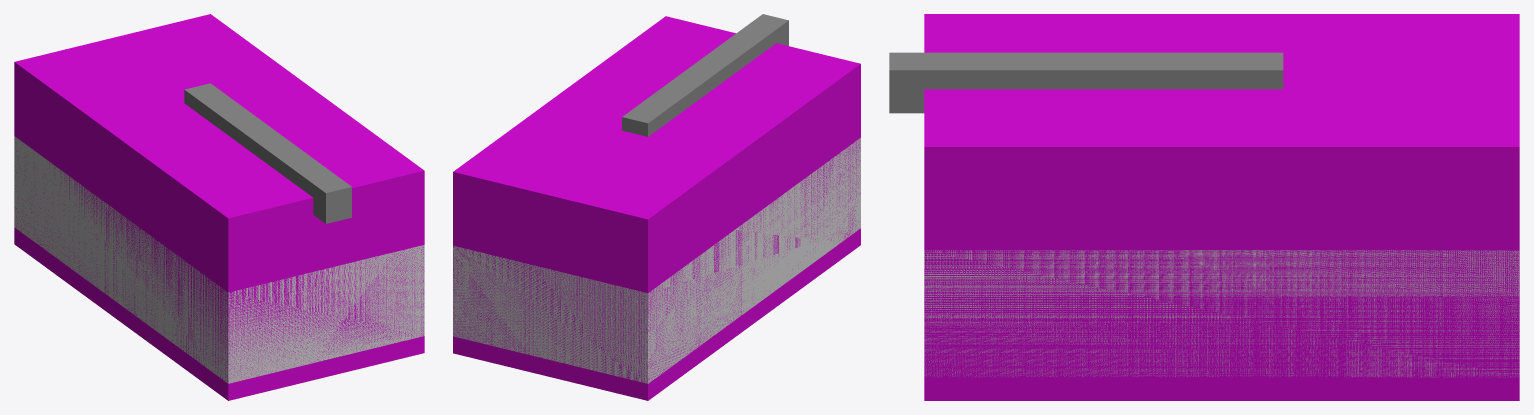
The model's file is truck.glb.
3 views of the same model, side by side, from view 1: azimuth 30°, elevation 25°; view 2: azimuth 150°, elevation 25°; view 3: azimuth 270°, elevation 25° (orthographic). The views are drawn at different scales.
Visible parts, largest first — view 1: collide.body, body, barrel; view 2: collide.body, body, barrel; view 3: collide.body, body, barrel.
Boxes of the visible parts, box(x1,y1,x2,y2) form: collide.body: box(14, 14, 424, 400); body: box(14, 136, 424, 383); barrel: box(184, 83, 351, 223); collide.body: box(453, 16, 860, 400); body: box(453, 137, 860, 383); barrel: box(622, 14, 788, 136); collide.body: box(924, 14, 1519, 400); body: box(924, 250, 1519, 377); barrel: box(889, 52, 1283, 113).
Size of the model in its own units: 1.8 by 1.72 by 3.6.
